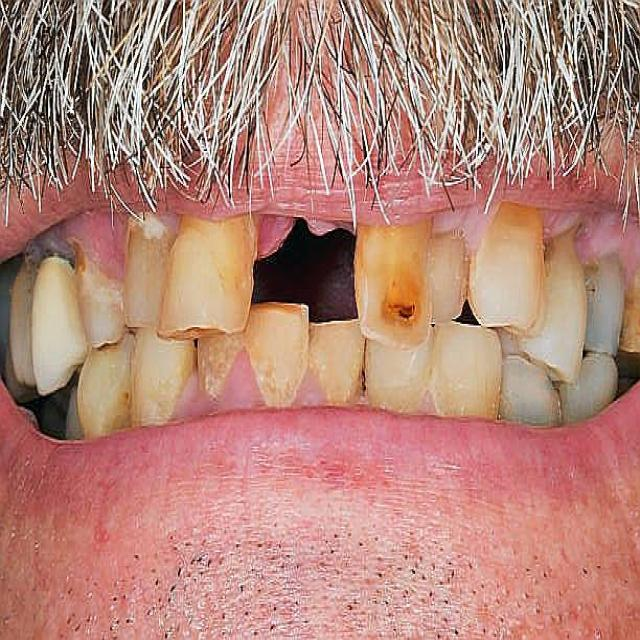caries: (374, 263, 422, 343), (70, 229, 92, 279)
